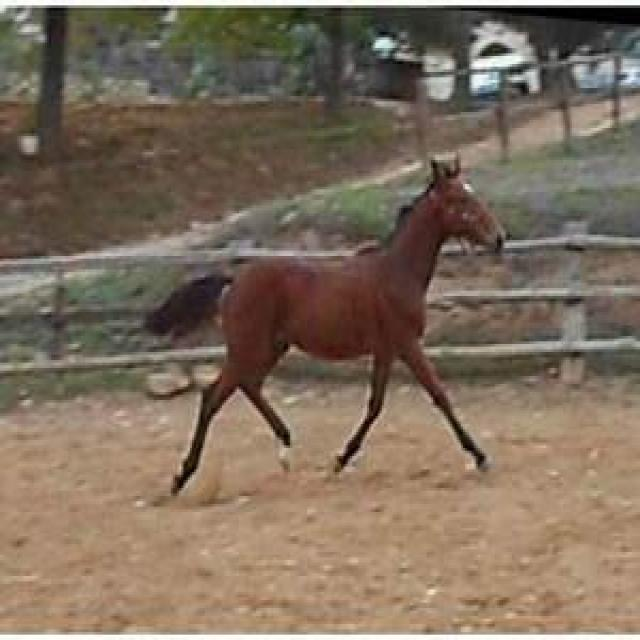horse: (145, 163, 510, 496)
